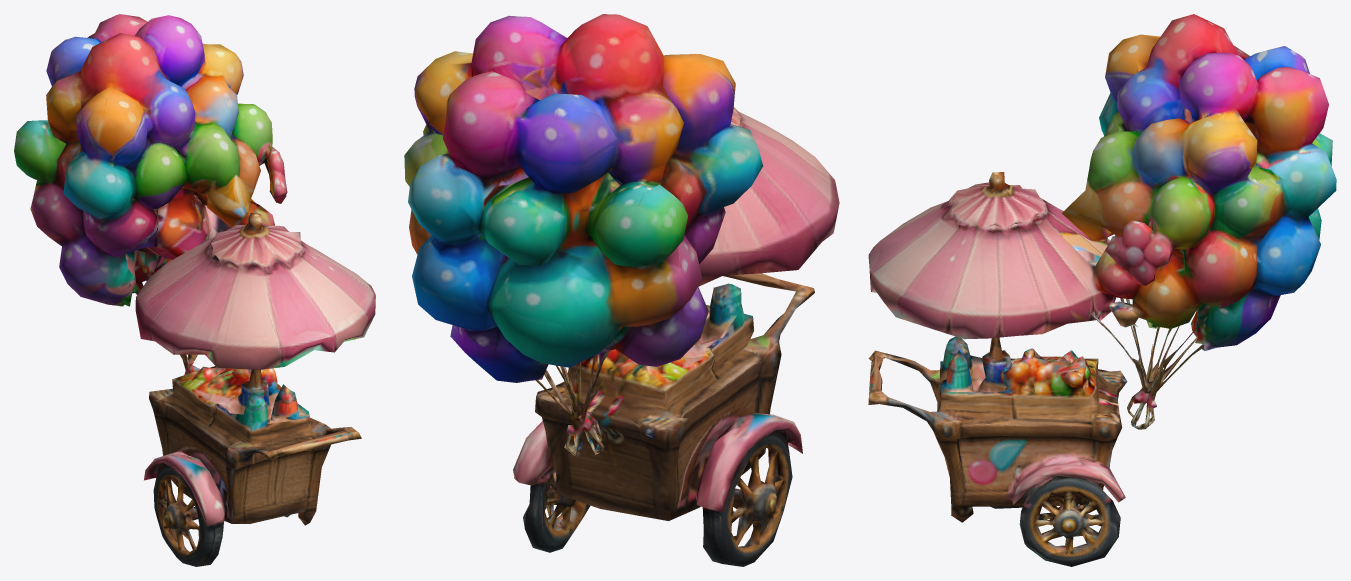
File: 롯데_풍선노점.glb
The picture shows the model from 3 angles, left to right: view 1: azimuth 30°, elevation 25°; view 2: azimuth 150°, elevation 25°; view 3: azimuth 270°, elevation 25°; orthographic projection. The views are drawn at different scales.
Parts seen in each view (by area): view 1: texture_mapping; view 2: texture_mapping; view 3: texture_mapping.
Part boxes in pixels (box(x1,y1,x2,y2)): texture_mapping: box(14, 14, 375, 566); texture_mapping: box(404, 14, 839, 566); texture_mapping: box(868, 14, 1336, 566).
Size of the model in its own units: 0.5197 by 1 by 0.858.
1 material, 1 textured.
